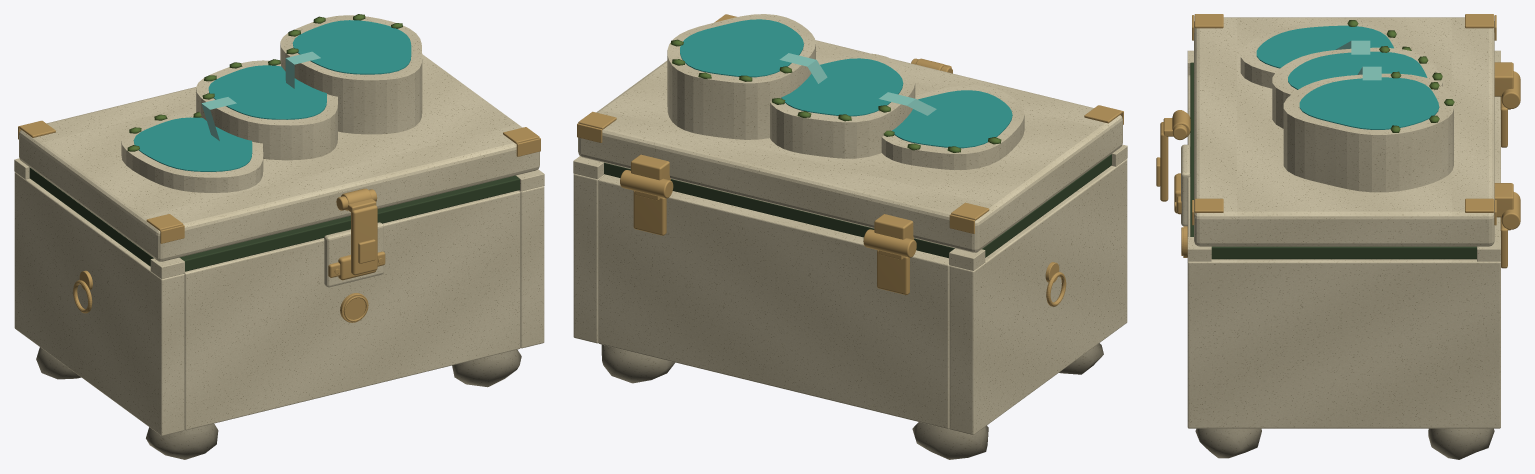
Rendered from croatia.glb.
3 views of the same model, side by side, from view 1: azimuth 30°, elevation 25°; view 2: azimuth 150°, elevation 25°; view 3: azimuth 270°, elevation 25° (orthographic). The views are drawn at different scales.
Visible parts, largest first — view 1: Tufa / long wall, Lid / polished slab, Tufa / end wall, Terrace / 2, Terrace / 1, Lake / 2, Mineral seam / long, Lake / 0, Lake / 1, Tufa / end wall.001, Terrace / 0, Stone foot (+7 smaller); view 2: Tufa / long wall.001, Lid / polished slab, Tufa / end wall, Terrace / 2, Terrace / 1, Lake / 2, Lake / 0, Lake / 1, Tufa / end wall.001, Terrace / 0, Mineral seam / long.001, Stone foot.001 (+10 smaller); view 3: Tufa / end wall.001, Lid / polished slab, Terrace / 2, Lake / 2, Mineral seam / side.001, Lake / 0, Lake / 1, Terrace / 0, Terrace / 1, Stone foot.003, Stone foot.002, Tufa / long wall.001 (+14 smaller).
Part boxes in pixels (x1,y1,x2,y2): Tufa / long wall: (184,190,520,430); Lid / polished slab: (19,54,539,261); Tufa / end wall: (14,172,184,435); Terrace / 2: (280,15,422,134); Terrace / 1: (196,60,337,160); Lake / 2: (292,20,411,74); Mineral seam / long: (179,175,519,271); Lake / 0: (133,117,252,171); Lake / 1: (208,65,326,119); Tufa / end wall.001: (518,186,544,348); Terrace / 0: (121,112,263,192); Stone foot: (146,423,218,459); Tufa / long wall.001: (598,174,949,428); Lid / polished slab: (578,40,1122,252); Tufa / end wall: (949,159,1127,434); Terrace / 2: (667,14,815,139); Terrace / 1: (770,53,915,158); Lake / 2: (680,19,803,77); Lake / 0: (892,90,1012,148); Lake / 1: (781,58,903,116); Tufa / end wall.001: (573,173,605,343); Terrace / 0: (881,85,1024,170); Mineral seam / long.001: (604,162,954,258); Stone foot.001: (912,422,988,459); Tufa / end wall.001: (1187,259,1500,428); Lid / polished slab: (1194,17,1494,246); Terrace / 2: (1283,73,1453,192); Lake / 2: (1299,77,1439,129); Mineral seam / side.001: (1211,246,1476,259); Lake / 0: (1256,25,1393,68); Lake / 1: (1288,51,1427,89); Terrace / 0: (1240,22,1407,88); Terrace / 1: (1272,47,1442,128); Stone foot.003: (1428,428,1494,459); Stone foot.002: (1195,428,1261,458); Tufa / long wall.001: (1494,96,1500,236).
Bounding box in the file's own units: 3.79 × 2.81 × 2.88.
7 materials, 2 textured.
